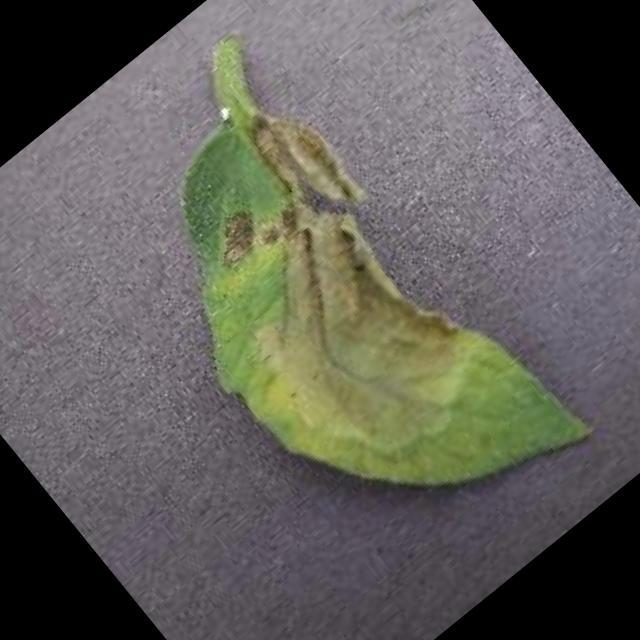Tomato late blight leaf: (92, 53, 605, 597)
